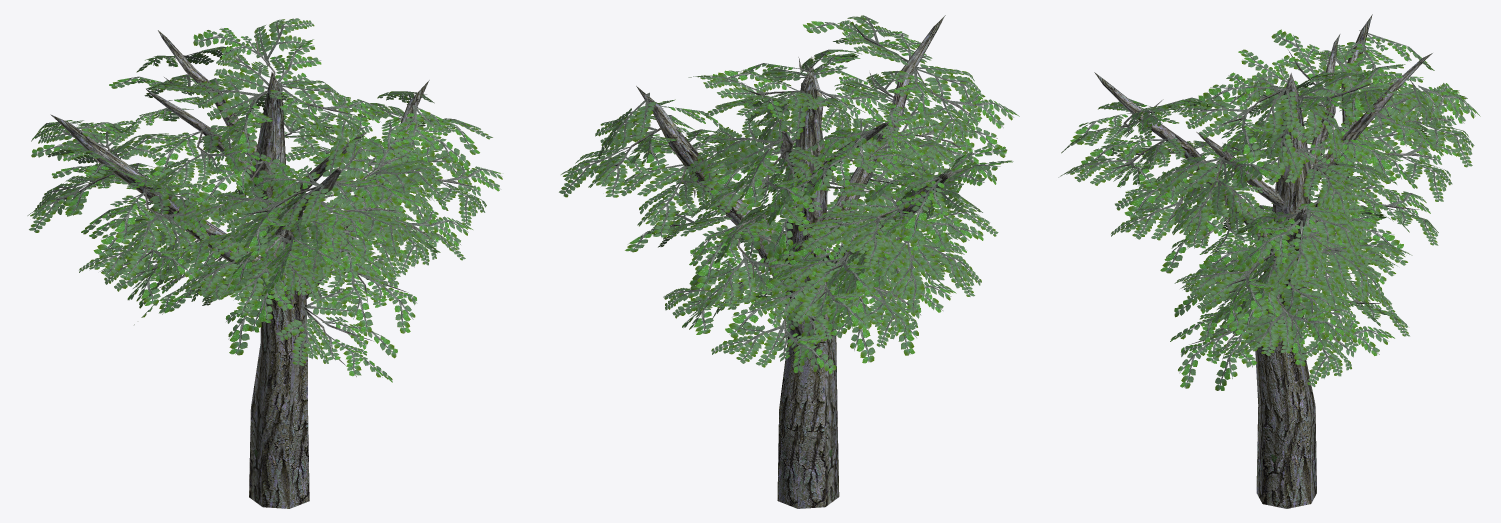
The model's file is Tree_01_01.obj.
3 renders of one model, left to right at view 1: azimuth 30°, elevation 25°; view 2: azimuth 150°, elevation 25°; view 3: azimuth 270°, elevation 25°, orthographic. The views are drawn at different scales.
Visible parts, largest first — view 1: polySurface991; view 2: polySurface991; view 3: polySurface991.
Part boxes in pixels (x1,y1,x2,y2): polySurface991: (27, 18, 502, 508); polySurface991: (559, 15, 1019, 508); polySurface991: (1058, 14, 1480, 508).
Bounding box in the file's own units: 169 × 162 × 148.
